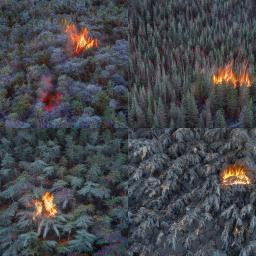Small fire: (208, 55, 256, 90), (61, 15, 96, 57), (220, 159, 255, 192), (29, 187, 60, 223)
